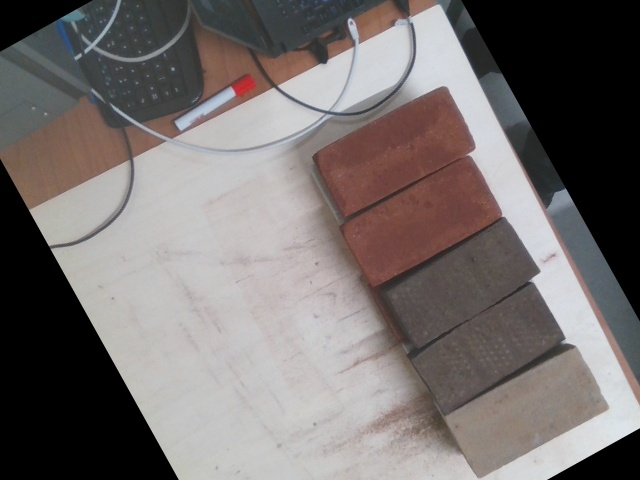brick: (339, 157, 502, 288), (379, 218, 540, 350), (445, 349, 609, 478), (313, 87, 478, 215), (413, 285, 567, 413)
